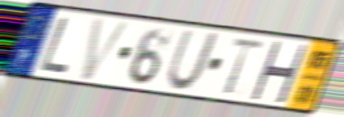6: (128, 26, 172, 87)
H: (248, 39, 310, 106)
L: (37, 15, 72, 75)
T: (221, 36, 268, 97)
U: (164, 29, 221, 93)
V: (78, 16, 135, 82)
